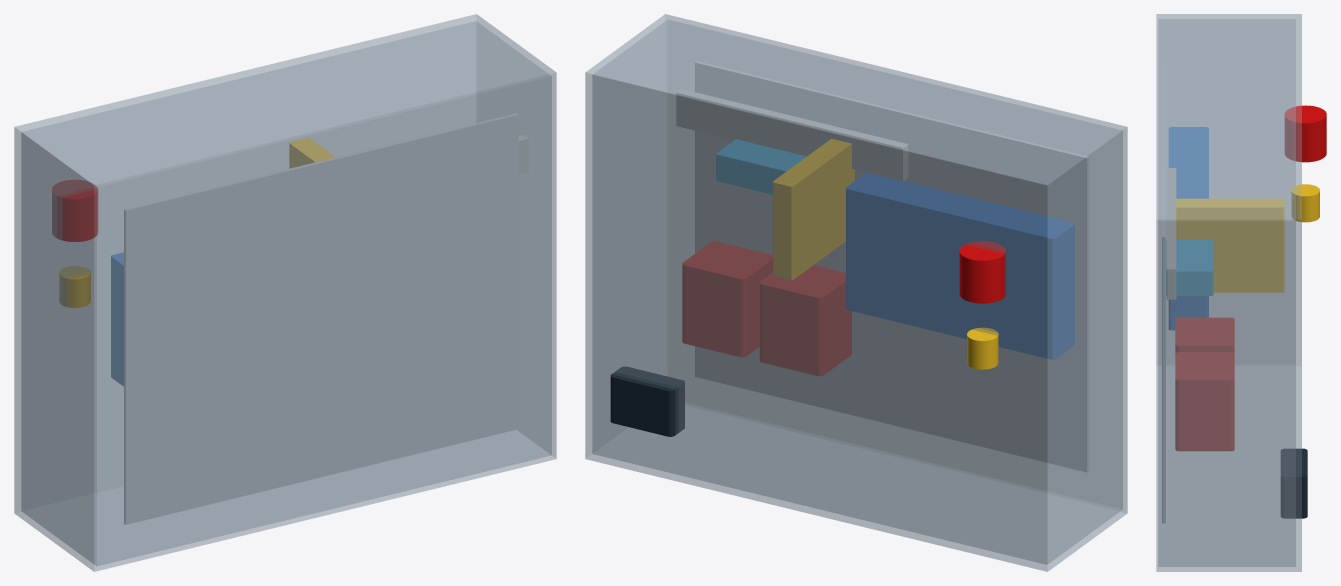
File: HR30_external_tether_panel_candidate.glb
3 views of the same model, side by side, from view 1: azimuth 30°, elevation 25°; view 2: azimuth 150°, elevation 25°; view 3: azimuth 270°, elevation 25° (orthographic). The views are drawn at different scales.
Visible parts, largest first — view 1: ENCLOSURE_1418N4C6, BACK_PANEL_432x330, S0_ESTOP_FAMILY, PS1_RSP-500-12, S1_RESET, SR1_PNOZ_s4_750104; view 2: ENCLOSURE_1418N4C6, BACK_PANEL_432x330, PS1_RSP-500-12, K1_GV121CAC, SR1_PNOZ_s4_750104, K2_GV121CAC, DIN_RAIL, XT1A_SBS75G, PS2_SD-15A-24, S0_ESTOP_FAMILY, S1_RESET; view 3: ENCLOSURE_1418N4C6, SR1_PNOZ_s4_750104, K2_GV121CAC, PS1_RSP-500-12, S0_ESTOP_FAMILY, PS2_SD-15A-24, K1_GV121CAC, XT1A_SBS75G, BACK_PANEL_432x330, DIN_RAIL, S1_RESET.
Part boxes in pixels (x1=…): ENCLOSURE_1418N4C6: x1=14, y1=14, x2=556, y2=571; BACK_PANEL_432x330: x1=124, y1=113, x2=517, y2=524; S0_ESTOP_FAMILY: x1=52, y1=180, x2=97, y2=241; PS1_RSP-500-12: x1=111, y1=252, x2=123, y2=386; S1_RESET: x1=60, y1=267, x2=90, y2=307; SR1_PNOZ_s4_750104: x1=289, y1=138, x2=334, y2=168; ENCLOSURE_1418N4C6: x1=585, y1=14, x2=1127, y2=571; BACK_PANEL_432x330: x1=695, y1=61, x2=1088, y2=472; PS1_RSP-500-12: x1=846, y1=173, x2=1074, y2=359; K1_GV121CAC: x1=760, y1=265, x2=851, y2=375; SR1_PNOZ_s4_750104: x1=773, y1=139, x2=854, y2=279; K2_GV121CAC: x1=682, y1=242, x2=772, y2=356; DIN_RAIL: x1=676, y1=89, x2=907, y2=180; XT1A_SBS75G: x1=610, y1=367, x2=684, y2=436; PS2_SD-15A-24: x1=716, y1=139, x2=806, y2=194; S0_ESTOP_FAMILY: x1=959, y1=241, x2=1005, y2=303; S1_RESET: x1=967, y1=328, x2=998, y2=369; ENCLOSURE_1418N4C6: x1=1156, y1=14, x2=1301, y2=571; SR1_PNOZ_s4_750104: x1=1176, y1=199, x2=1284, y2=292; K2_GV121CAC: x1=1175, y1=352, x2=1234, y2=450; PS1_RSP-500-12: x1=1169, y1=127, x2=1208, y2=329; S0_ESTOP_FAMILY: x1=1285, y1=105, x2=1326, y2=162; PS2_SD-15A-24: x1=1166, y1=240, x2=1213, y2=295; K1_GV121CAC: x1=1175, y1=318, x2=1234, y2=352; XT1A_SBS75G: x1=1281, y1=448, x2=1307, y2=518; BACK_PANEL_432x330: x1=1162, y1=62, x2=1165, y2=523; DIN_RAIL: x1=1167, y1=168, x2=1175, y2=299; S1_RESET: x1=1291, y1=184, x2=1319, y2=222.
Size of the model in its own units: 508 by 406 by 178.
